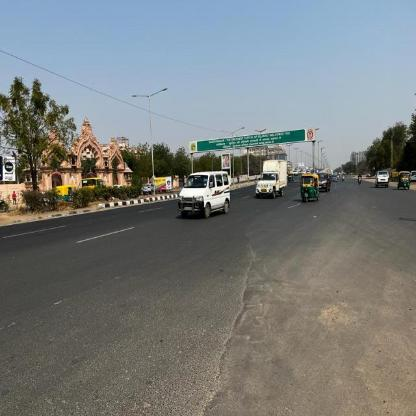auto-rikshaw: (297, 171, 322, 207), (53, 184, 76, 198), (396, 169, 410, 191)
